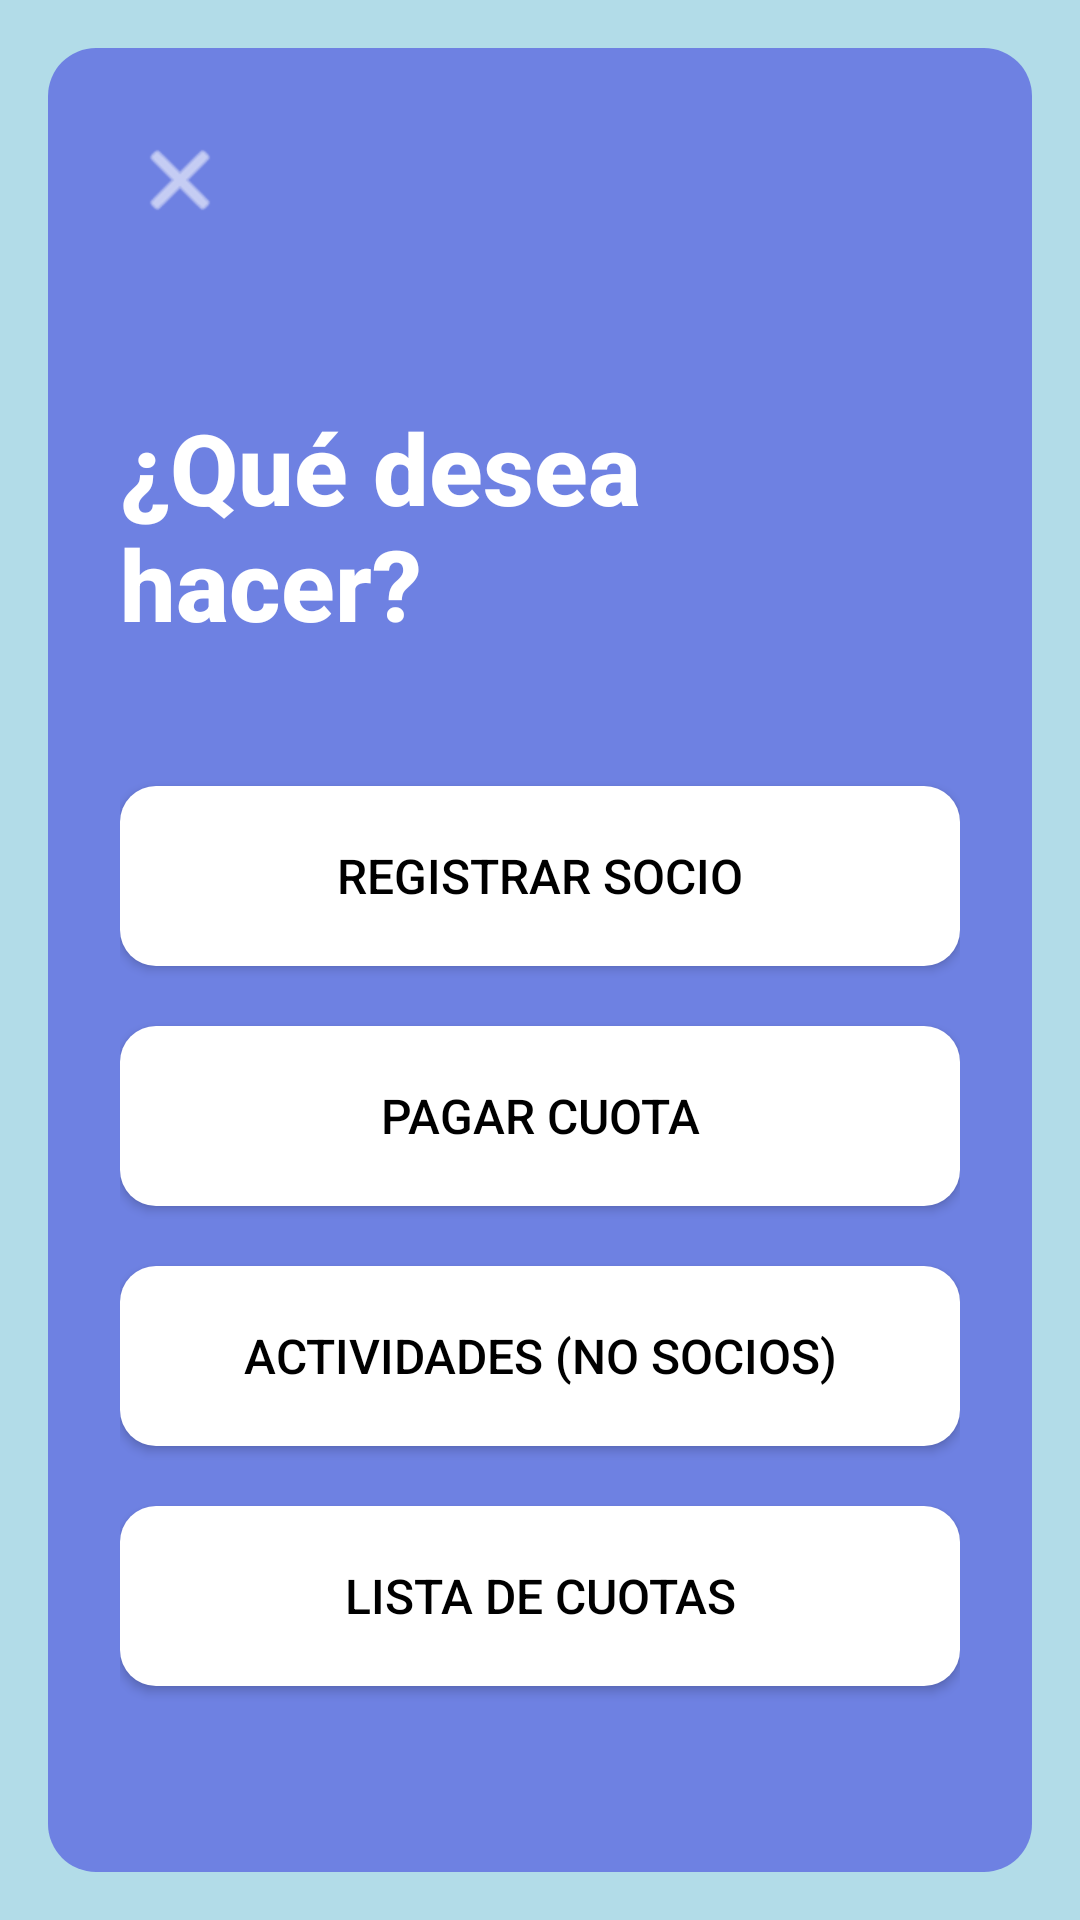

Icon click points for this 1080w x 1920h phone screenshot, format [x,y]:
close clear cancel: [180,180]
